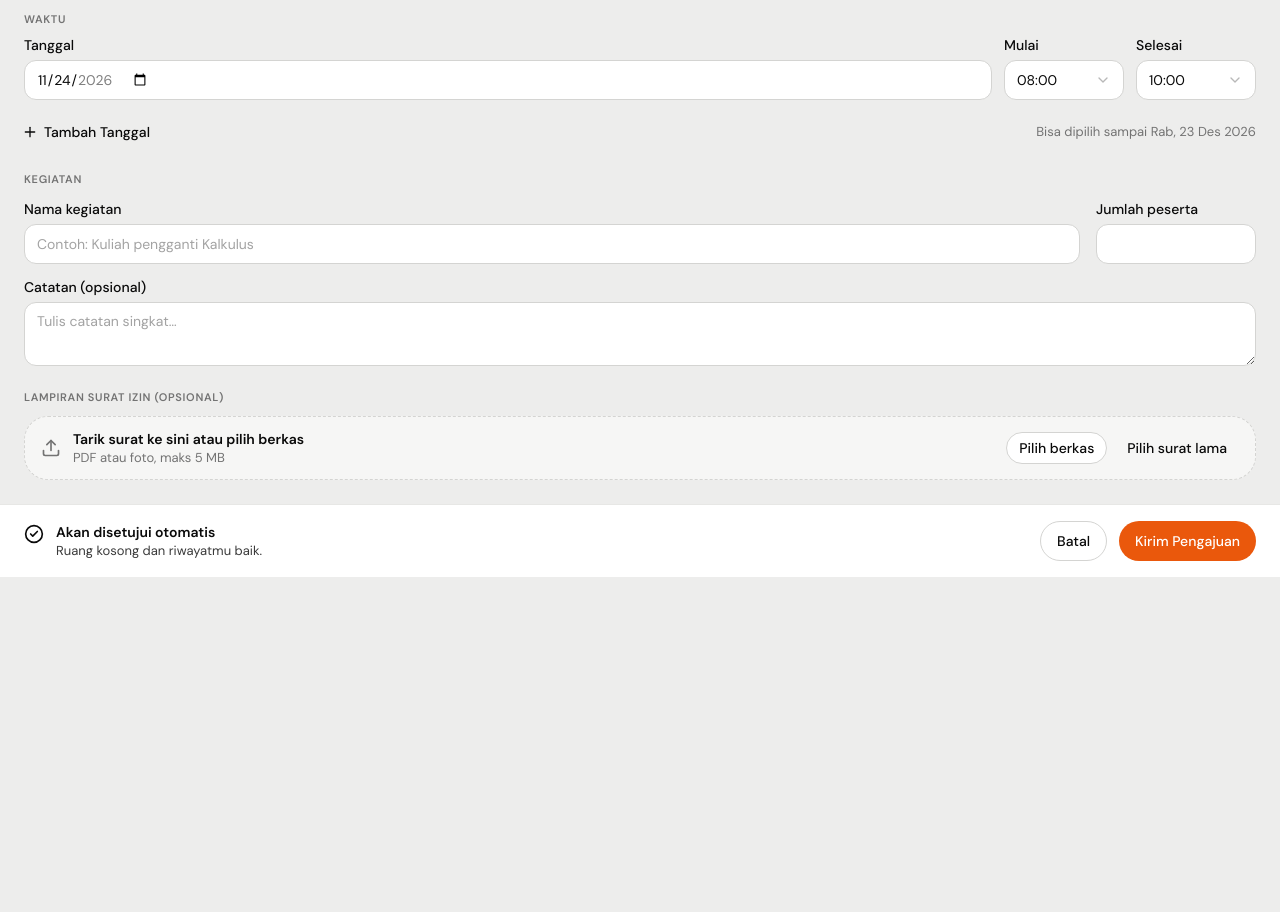
Test: RequestForm › blocked and quota › explains a full quota
The width and height of the screenshot is (1280, 912).
Type "Kuliah pengganti" into the field labelled "Nama kegiatan" at (552, 244), box [24,224,1080,264]
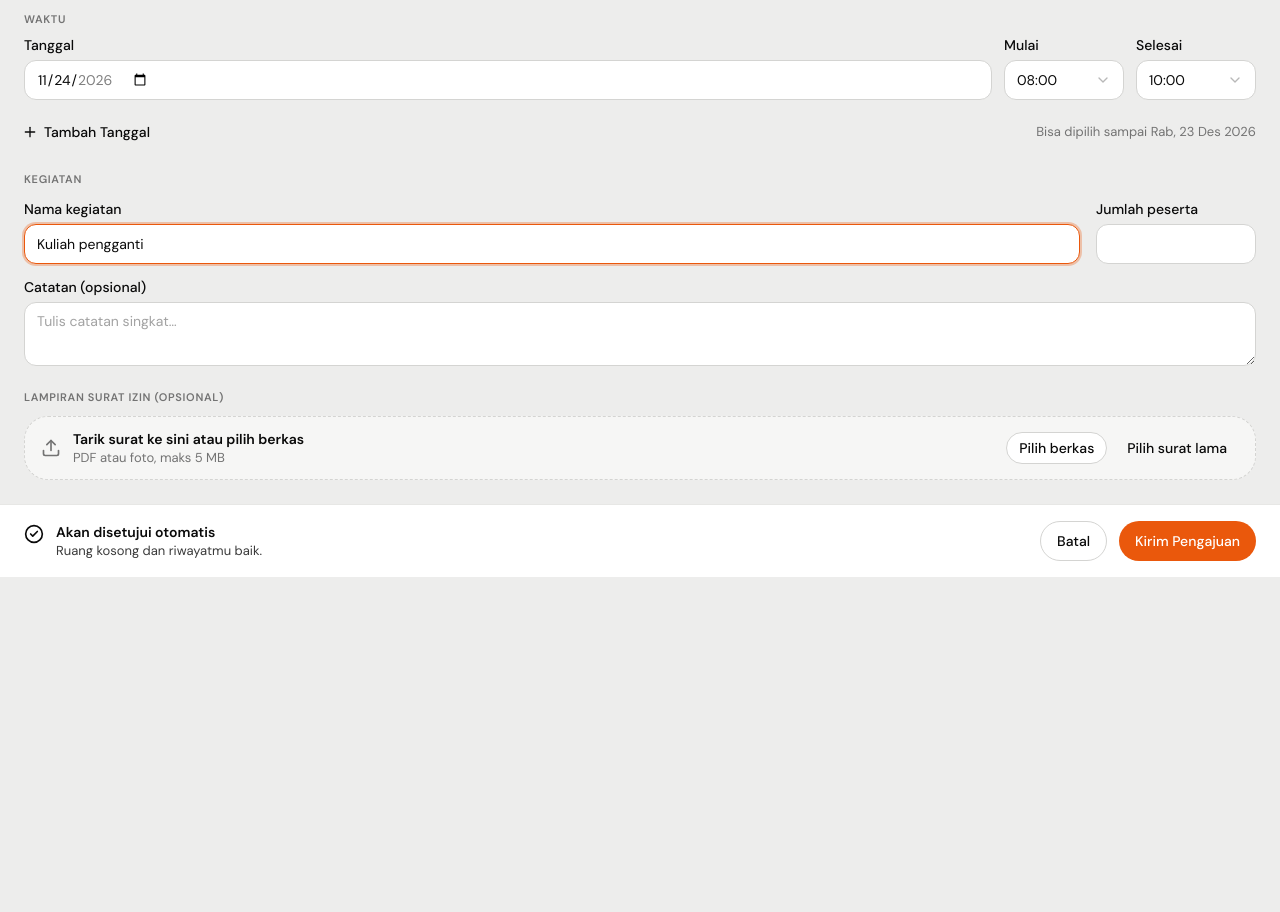
Click the button "Kirim Pengajuan" at (1188, 541), box [1119,521,1256,561]
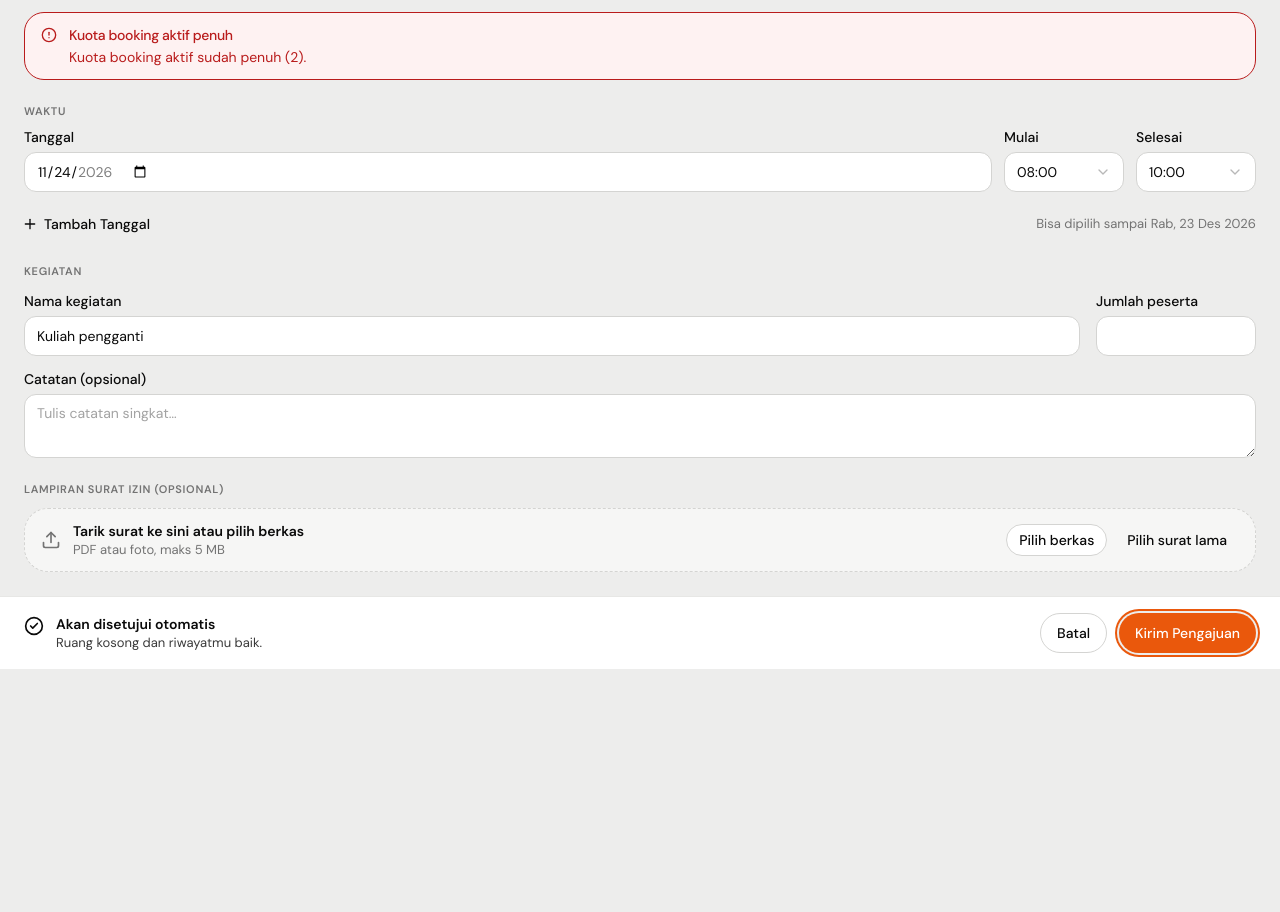
Expected: the text "Kuota booking aktif penuh" is shown, [69,26,233,44]
